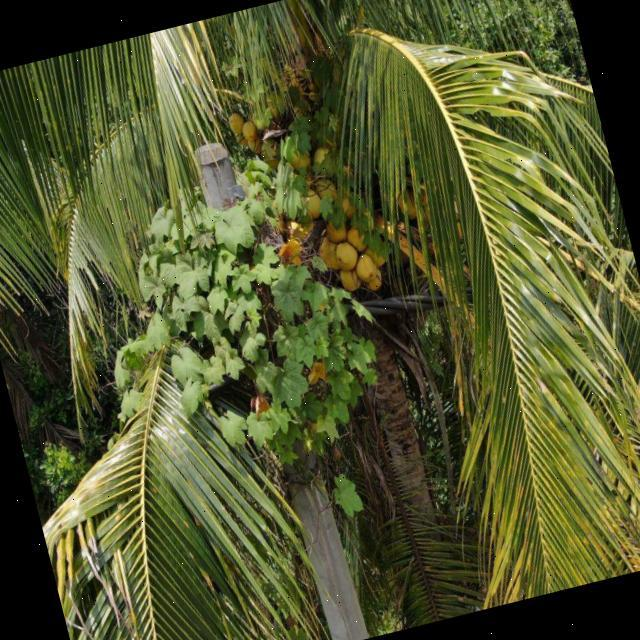critical vegetation: (86, 112, 405, 518)
